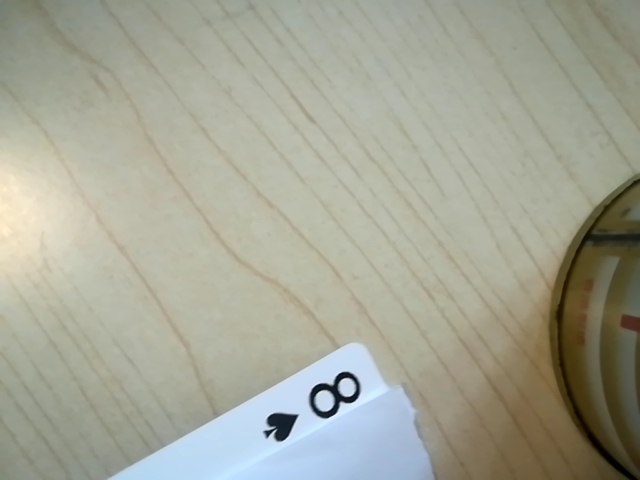ht 8: (250, 364, 381, 449)
